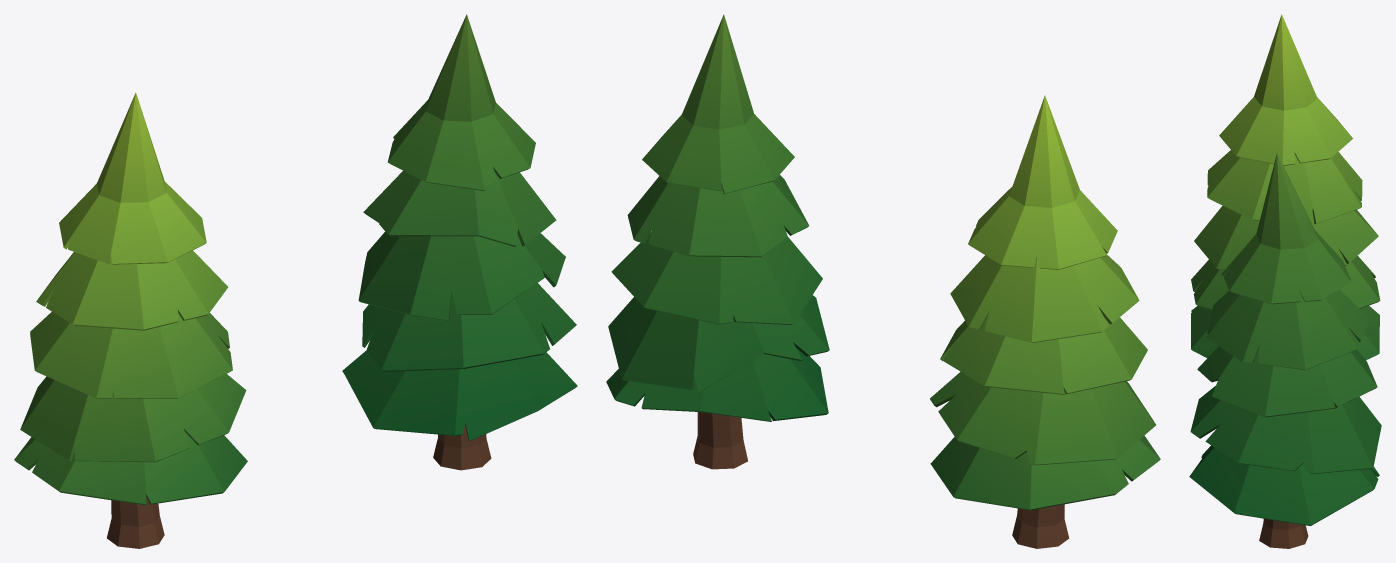
The model's file is Pine variation.fbx.
3 renders of one model, left to right at view 1: azimuth 30°, elevation 25°; view 2: azimuth 150°, elevation 25°; view 3: azimuth 270°, elevation 25°, orthographic. The views are drawn at different scales.
Parts seen in each view (by area): view 1: Cylinder.002, Cylinder.005, Cylinder, Cylinder.001; view 2: Cylinder.005, Cylinder.002, Cylinder.001, Cylinder; view 3: Cylinder.002, Cylinder.005, Cylinder.001.
Part boxes in pixels (bbox=[...]): Cylinder.002: bbox=[342, 14, 577, 441]; Cylinder.005: bbox=[14, 92, 247, 505]; Cylinder: bbox=[107, 496, 164, 548]; Cylinder.001: bbox=[433, 425, 491, 470]; Cylinder.005: bbox=[930, 95, 1160, 510]; Cylinder.002: bbox=[606, 14, 829, 421]; Cylinder.001: bbox=[693, 412, 747, 469]; Cylinder: bbox=[1012, 504, 1069, 548]; Cylinder.002: bbox=[1189, 153, 1381, 525]; Cylinder.005: bbox=[1191, 14, 1380, 359]; Cylinder.001: bbox=[1259, 518, 1308, 548].
Size of the model in its own units: 717 by 583 by 263.
